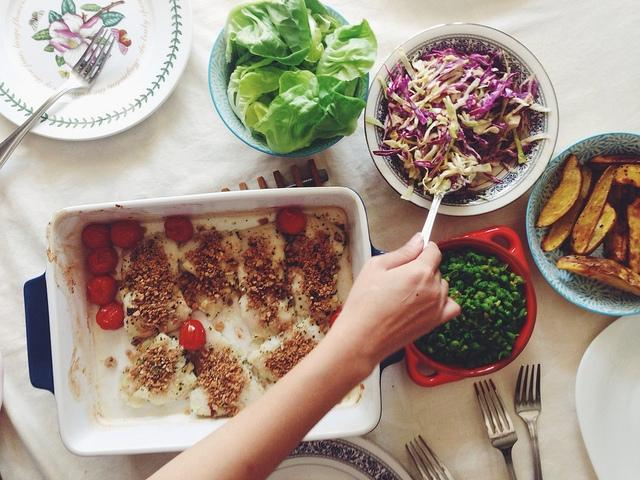lettuce: (254, 74, 366, 154), (235, 0, 312, 66), (226, 54, 288, 134), (316, 18, 378, 82), (279, 70, 317, 95)
tomato: (110, 220, 144, 250), (86, 275, 118, 306), (86, 246, 118, 275), (81, 224, 113, 250), (276, 208, 306, 235), (180, 320, 206, 351), (96, 302, 124, 330), (164, 218, 193, 243)
